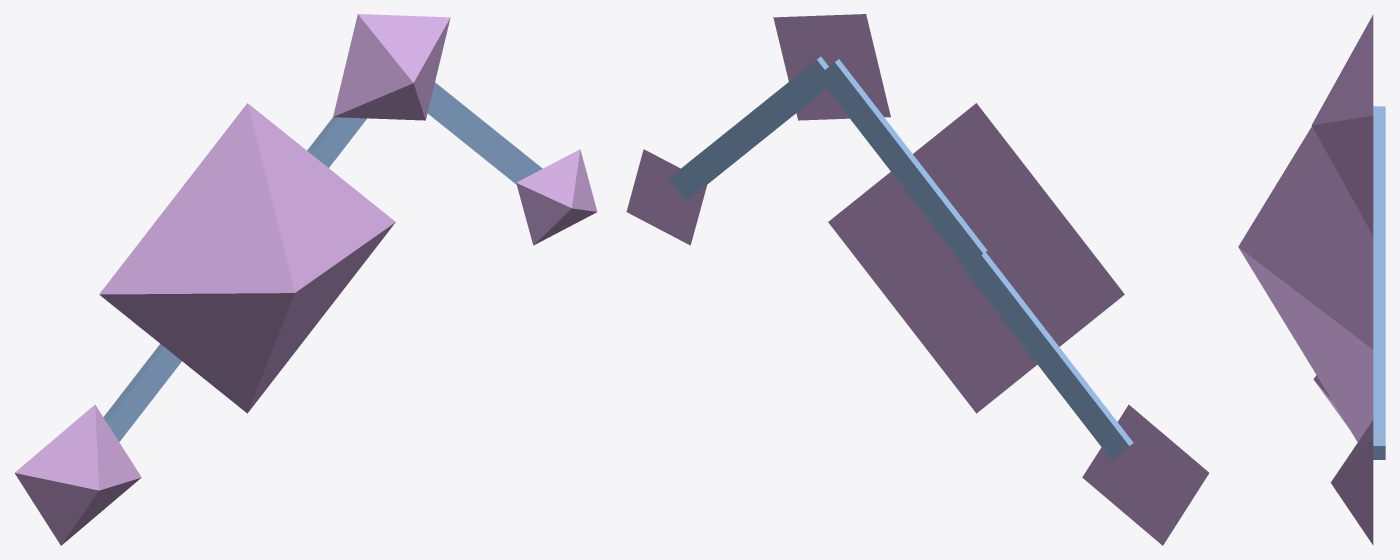
Rendered from walldecor2.fbx.
3 renders of one model, left to right at view 1: azimuth 30°, elevation 25°; view 2: azimuth 150°, elevation 25°; view 3: azimuth 270°, elevation 25°, orthographic. The views are drawn at different scales.
Visible parts, largest first — view 1: walldecor2_low; view 2: walldecor2_low; view 3: walldecor2_low.
Part boxes in pixels (left/top/right/bottom): walldecor2_low: left=15, top=14, right=597, bottom=545; walldecor2_low: left=626, top=14, right=1208, bottom=545; walldecor2_low: left=1238, top=15, right=1385, bottom=545.
Size of the model in its own units: 2.78 by 2.09 by 0.4276.
